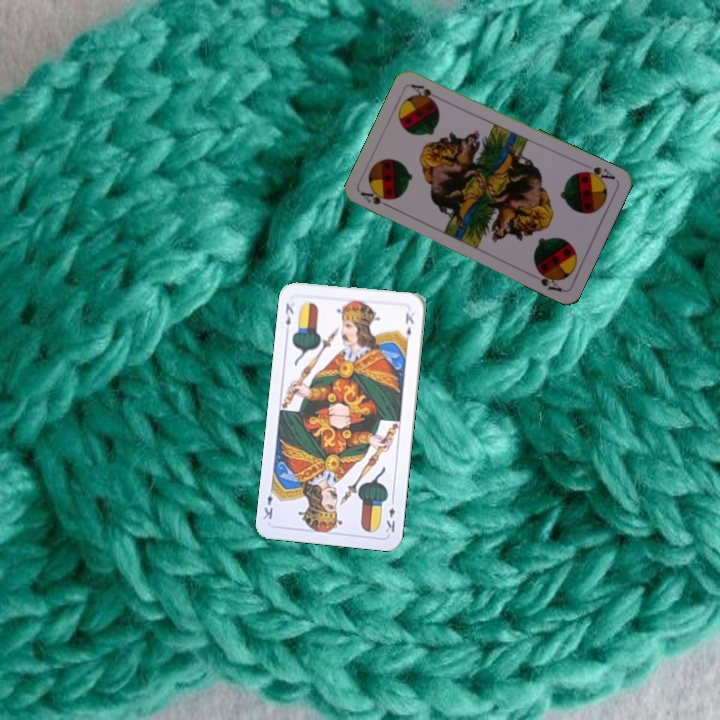EK: (382, 495, 397, 535), (281, 298, 296, 328)
SA: (577, 160, 618, 185), (357, 187, 396, 211)
